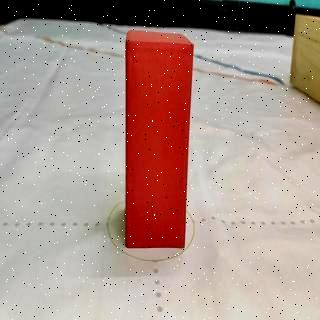redbox: (125, 28, 193, 246)
